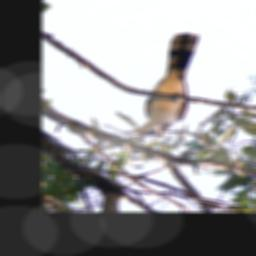Cuckoo: (122, 31, 202, 137)
